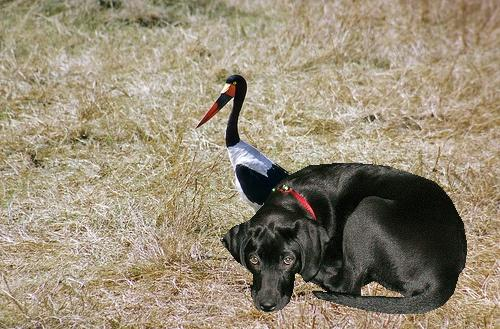tampered: (221, 164, 467, 314)
